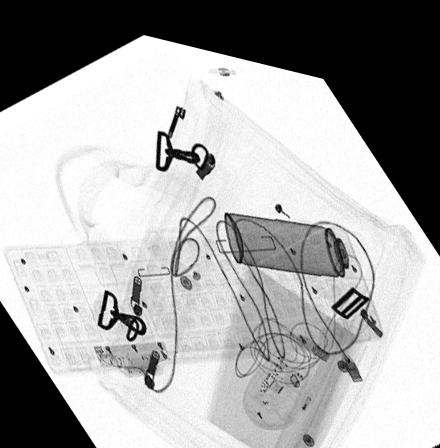Sprayer: (224, 201, 377, 262)
